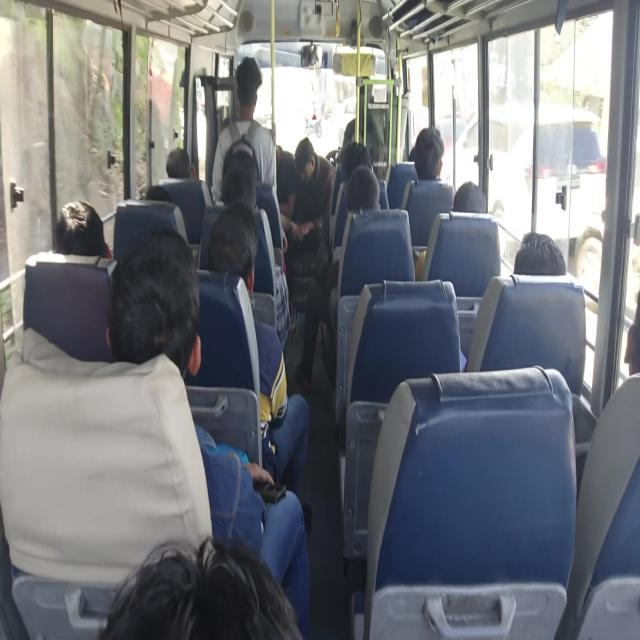person: (104, 484, 258, 640), (95, 255, 178, 388), (2, 192, 104, 270), (590, 268, 640, 386), (462, 172, 514, 252), (232, 62, 278, 144), (512, 230, 560, 302), (199, 213, 246, 284), (129, 176, 184, 227), (302, 143, 340, 215), (424, 119, 454, 185), (271, 130, 300, 198), (221, 172, 258, 220), (168, 143, 202, 191), (239, 146, 261, 183), (346, 150, 370, 182), (355, 172, 374, 212), (406, 146, 425, 170)
